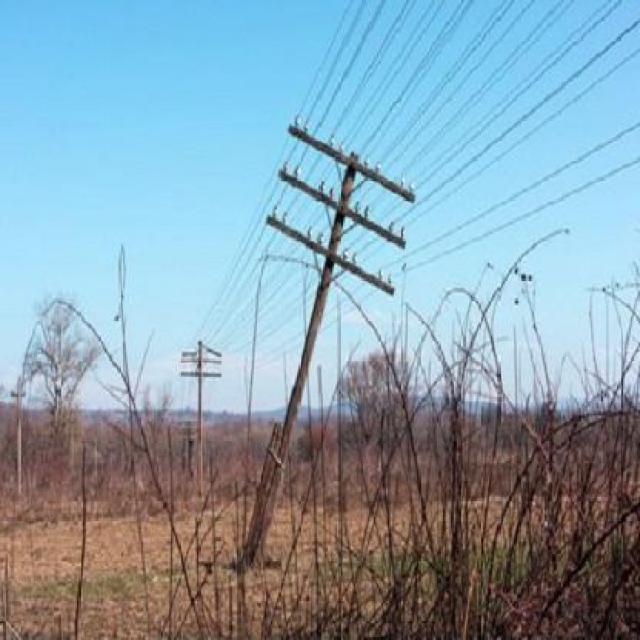pole: (242, 106, 412, 566), (175, 335, 228, 491)
